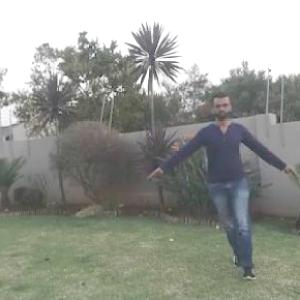land: (150, 95, 278, 252)
